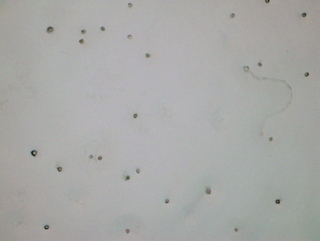germinated: (240, 62, 256, 87)
nongerminated: (26, 146, 42, 160), (43, 22, 57, 37), (254, 58, 268, 72), (201, 184, 215, 198), (300, 67, 313, 80), (226, 10, 239, 22), (123, 30, 136, 42), (133, 164, 145, 177), (120, 172, 133, 184), (54, 163, 67, 175), (299, 9, 311, 21), (129, 110, 141, 122), (161, 195, 173, 207), (142, 49, 153, 62), (124, 1, 136, 12), (231, 225, 242, 237), (95, 151, 106, 163), (41, 222, 53, 233), (120, 226, 133, 236), (75, 35, 86, 46), (97, 23, 109, 33), (271, 197, 283, 207), (78, 26, 88, 37), (86, 151, 95, 161)
